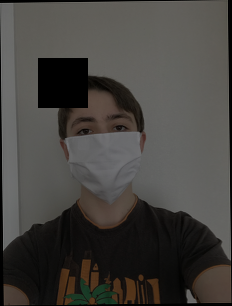with_mask: (63, 106, 144, 206)
